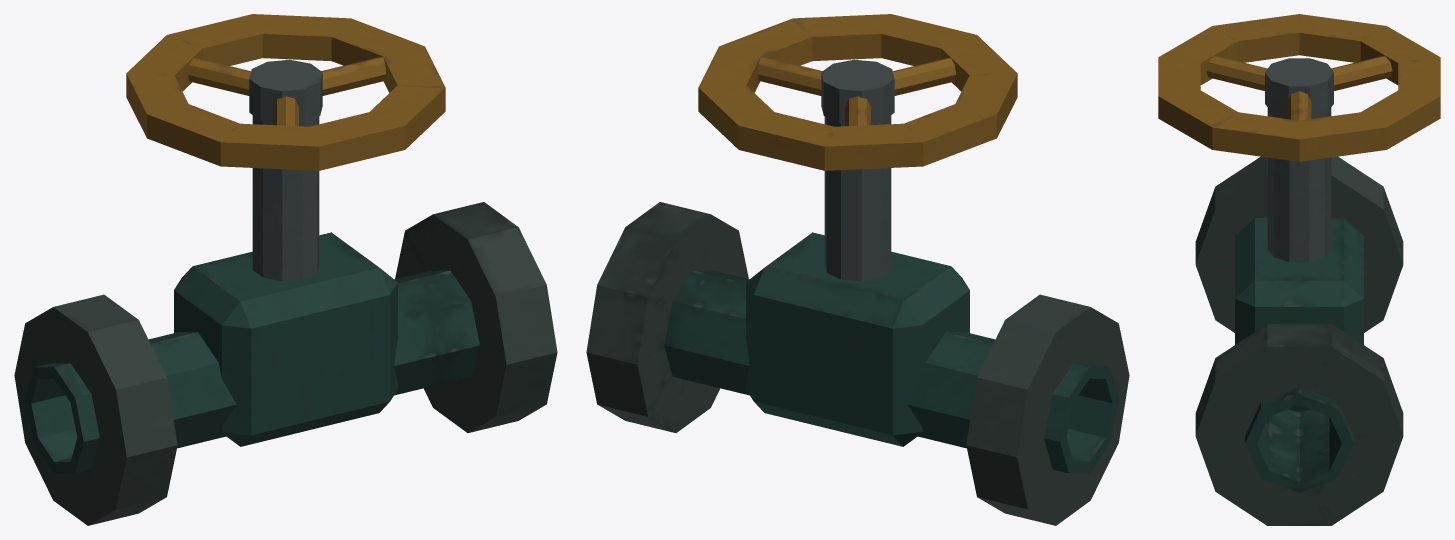
Rendered from pipe_valve.glb.
The picture shows the model from 3 angles, left to right: view 1: azimuth 30°, elevation 25°; view 2: azimuth 150°, elevation 25°; view 3: azimuth 270°, elevation 25°; orthographic projection. The views are drawn at different scales.
Parts seen in each view (by area): view 1: pipe_valve; view 2: pipe_valve; view 3: pipe_valve.
Boxes of the visible parts, x1,y1,x2,y2 form: pipe_valve: [14, 14, 557, 525]; pipe_valve: [586, 14, 1129, 525]; pipe_valve: [1158, 14, 1440, 525].
Bounding box in the file's own units: 0.5 × 0.3974 × 0.2853.
1 material, 1 textured.
